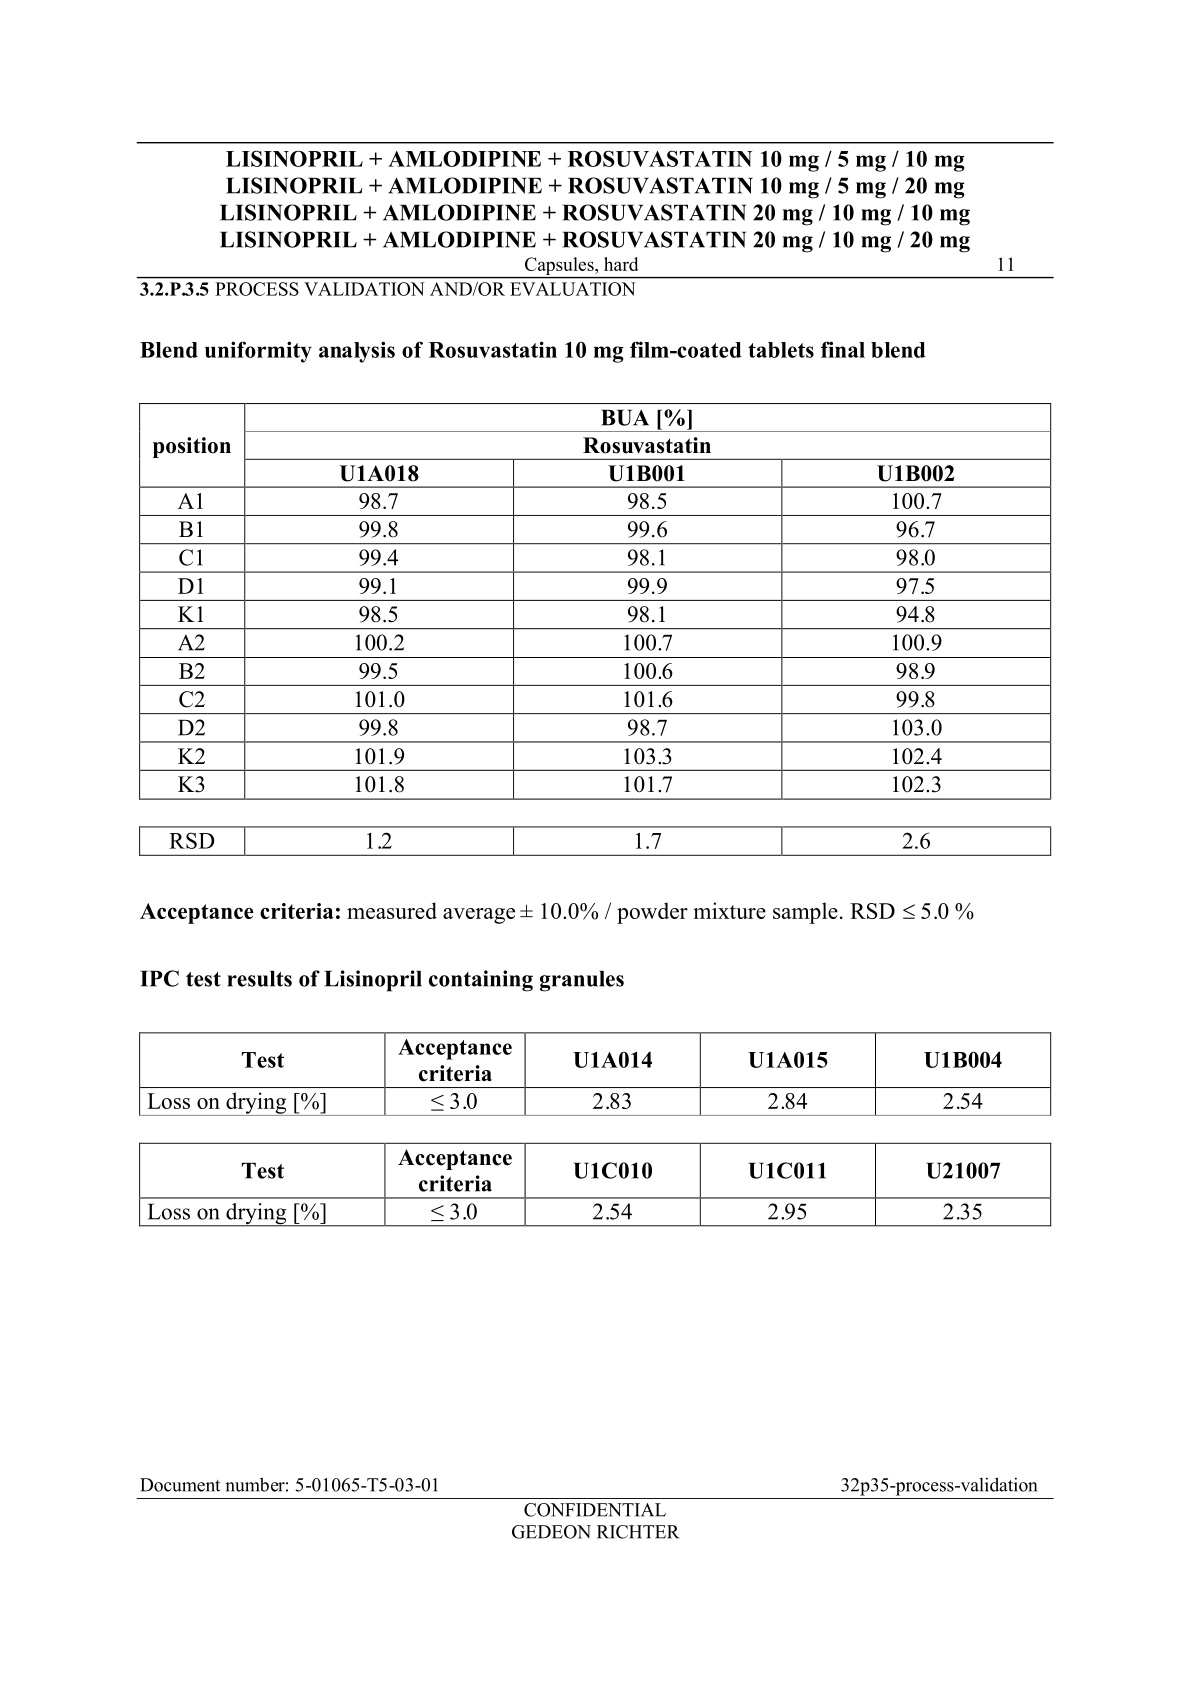full_lined: (137, 1031, 1052, 1117), (137, 1142, 1052, 1227), (138, 825, 1051, 856)
merged_cells: (137, 402, 1051, 801)
